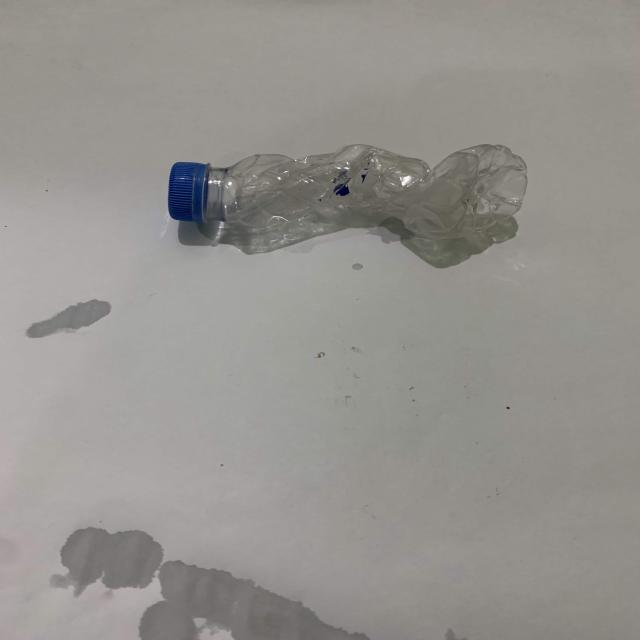bottle: (162, 127, 544, 256)
